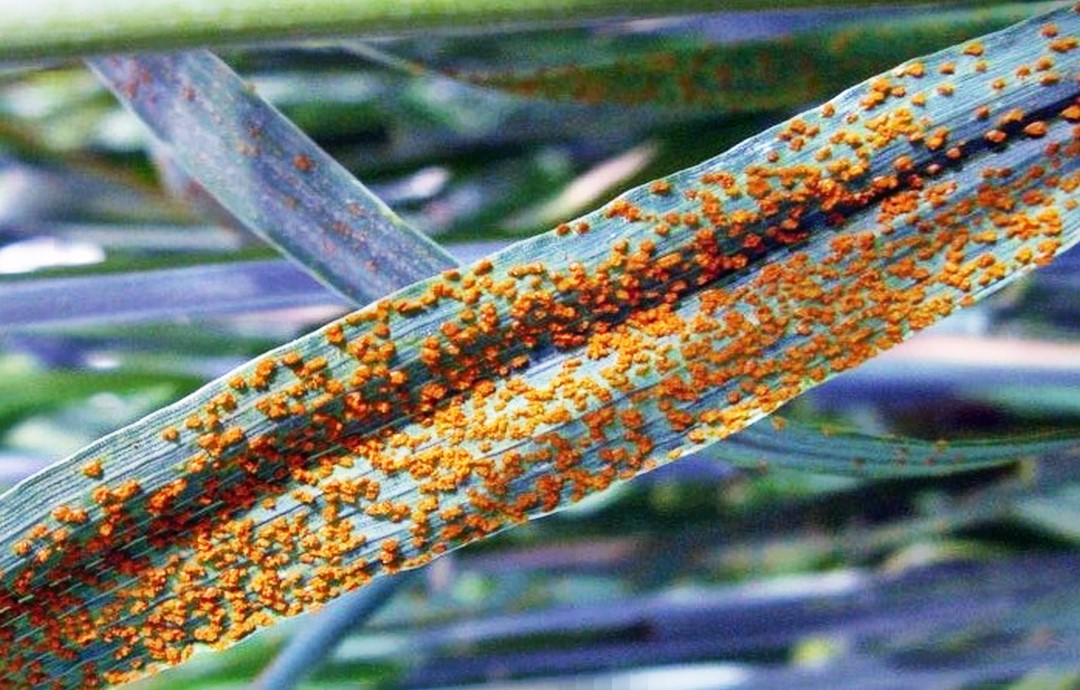Leaf Rust: (205, 49, 987, 594)
